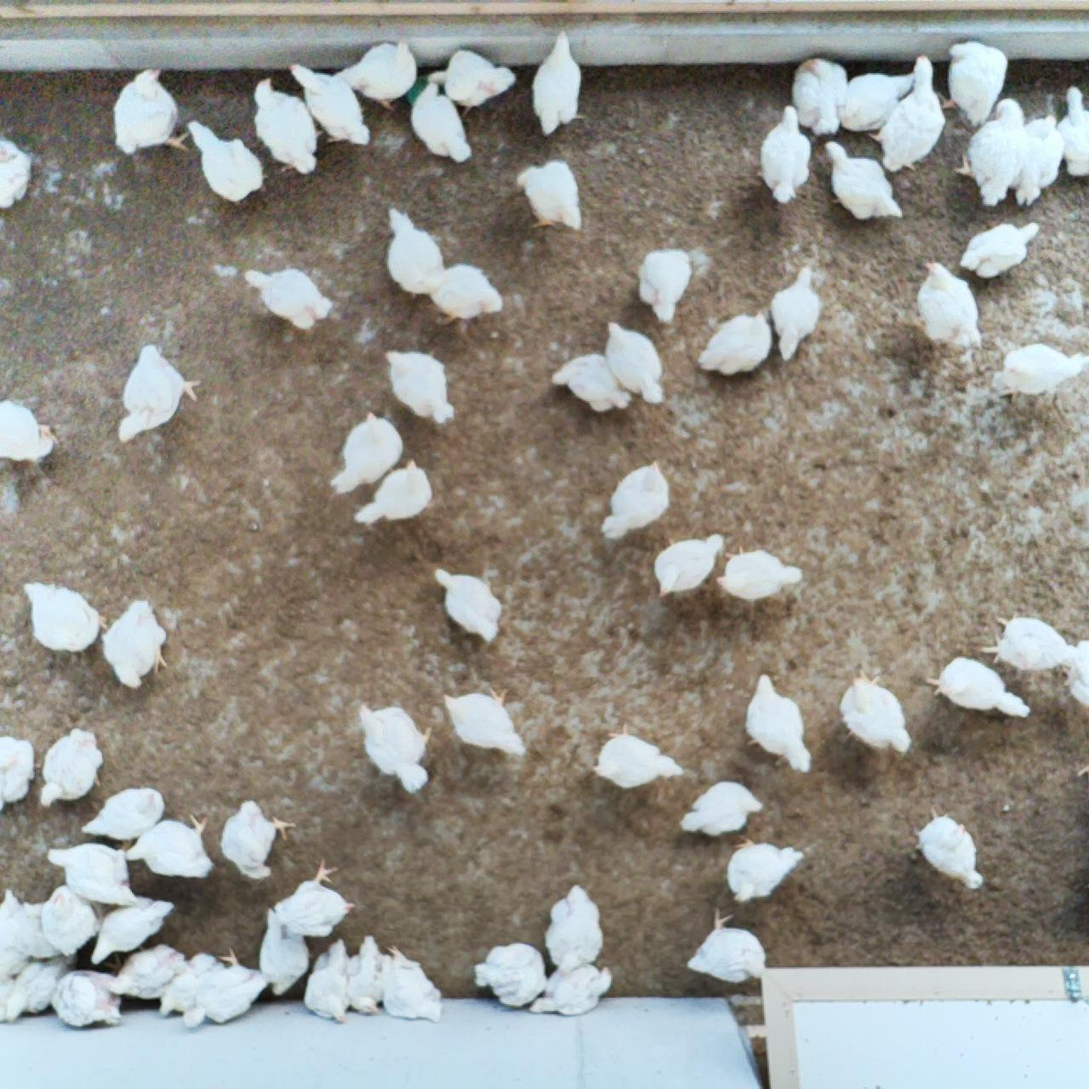chicken: (868, 52, 948, 177), (952, 96, 1032, 211), (114, 342, 201, 444), (921, 654, 1035, 727), (286, 59, 375, 150), (355, 698, 437, 795), (181, 945, 274, 1030), (110, 64, 192, 159), (741, 671, 815, 776), (184, 118, 271, 206), (906, 801, 988, 894), (249, 75, 323, 177), (838, 666, 916, 760), (440, 682, 531, 762), (218, 794, 298, 884), (590, 720, 687, 793), (682, 905, 770, 985), (333, 36, 422, 115), (822, 142, 907, 224), (121, 808, 216, 881), (21, 578, 109, 656), (100, 596, 171, 691), (90, 892, 176, 970), (379, 202, 448, 299), (913, 258, 982, 355), (272, 856, 361, 931), (937, 38, 1011, 128), (427, 46, 519, 118), (328, 412, 405, 498), (530, 26, 590, 136), (379, 346, 460, 427), (724, 830, 809, 907), (752, 101, 814, 206), (45, 841, 142, 908), (597, 457, 672, 542), (510, 155, 588, 236), (241, 265, 332, 334), (997, 340, 1089, 408), (602, 316, 669, 408), (431, 563, 506, 644), (543, 882, 606, 978), (38, 726, 107, 811), (714, 544, 807, 607), (408, 80, 475, 167), (352, 458, 435, 528), (1010, 108, 1068, 208), (382, 942, 449, 1028), (694, 307, 775, 378), (676, 778, 763, 842), (549, 349, 632, 416), (976, 610, 1072, 667), (652, 531, 728, 602), (103, 942, 190, 1004), (79, 785, 168, 845), (528, 957, 615, 1018), (834, 71, 914, 137), (771, 261, 822, 364), (473, 939, 548, 1009), (633, 243, 695, 327), (961, 217, 1042, 281), (786, 53, 849, 135), (425, 261, 506, 324), (38, 879, 101, 957), (0, 391, 62, 470), (4, 956, 73, 1026), (157, 953, 225, 1021), (258, 910, 312, 995), (303, 936, 354, 1025), (345, 933, 392, 1020), (59, 970, 126, 1029), (1054, 83, 1089, 179), (0, 733, 37, 814), (0, 135, 32, 213), (15, 901, 57, 956), (0, 889, 26, 973), (1061, 636, 1089, 711)
